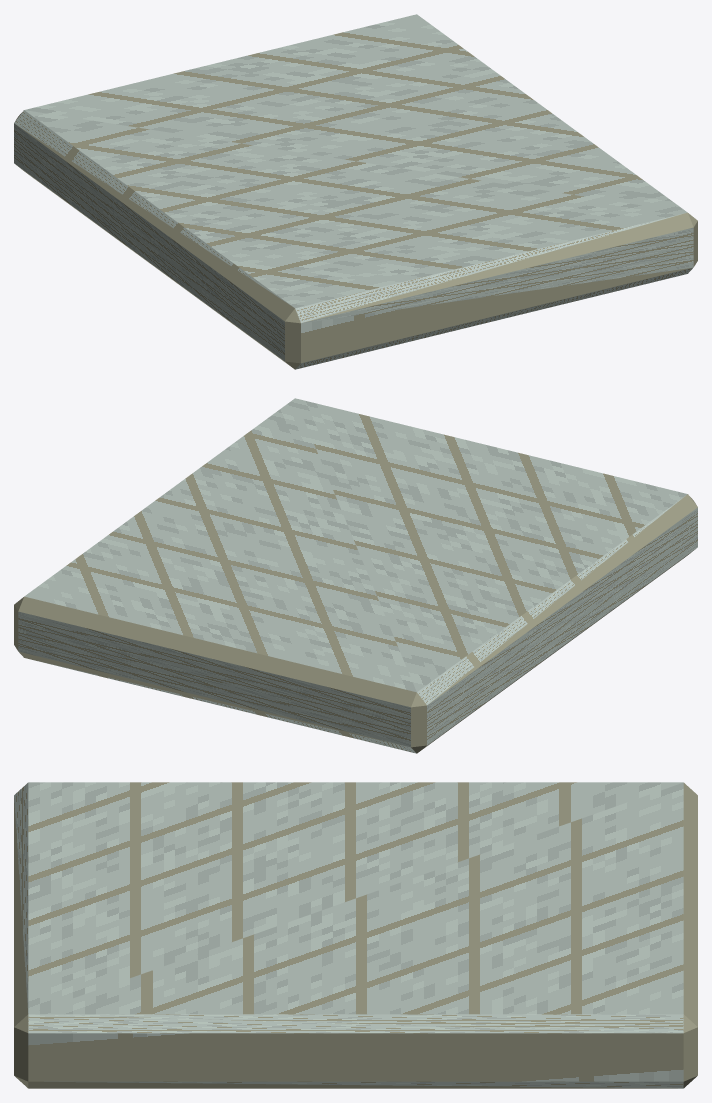
Rendered from f_floor_mattress.glb.
3 renders of one model, top to bottom at view 1: azimuth 30°, elevation 25°; view 2: azimuth 150°, elevation 25°; view 3: azimuth 270°, elevation 25°, orthographic. The views are drawn at different scales.
Visible parts, largest first — view 1: block_mattress-0; view 2: block_mattress-0; view 3: block_mattress-0.
Boxes of the visible parts, x1,y1,x2,y2 form: block_mattress-0: [14, 14, 697, 369]; block_mattress-0: [14, 398, 697, 753]; block_mattress-0: [14, 782, 697, 1088].
Size of the model in its own units: 0.81 by 0.115 by 0.96.
1 material, 1 textured.
